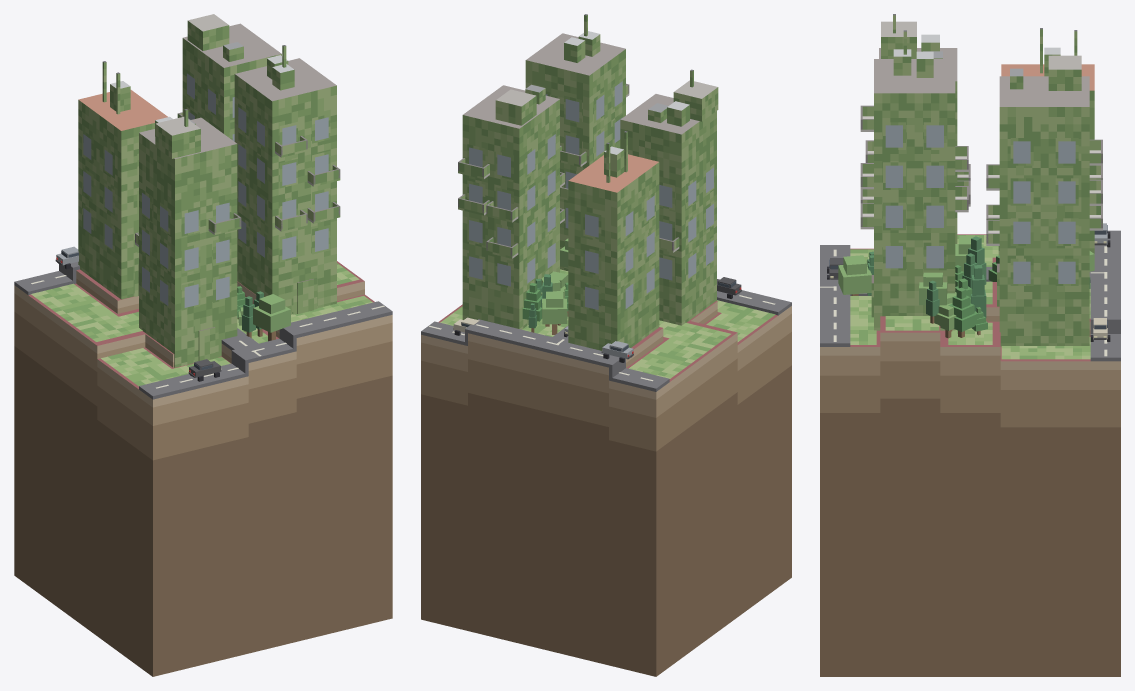
Rendered from block_24_greenfacade_50.glb.
3 views of the same model, side by side, from view 1: azimuth 30°, elevation 25°; view 2: azimuth 150°, elevation 25°; view 3: azimuth 270°, elevation 25° (orthographic). The views are drawn at different scales.
Parts seen in each view (by area): view 1: Patch_UpperRight_b24_GF, ResidBldgs_b24_GF, Green_UpperRight_b24_GF, Roads_UpperRight_b24_GF, URTree_24_17_GF; view 2: Patch_UpperRight_b24_GF, ResidBldgs_b24_GF, Roads_UpperRight_b24_GF, Green_UpperRight_b24_GF, URTree_24_0_GF; view 3: Patch_UpperRight_b24_GF, ResidBldgs_b24_GF, Roads_UpperRight_b24_GF, Green_UpperRight_b24_GF, URTree_24_17_GF, URTree_24_28_GF, URTree_24_25_GF, URTree_24_19_GF, URTree_24_20_GF.
Part boxes in pixels (box(x1,y1,x2,y2)): Patch_UpperRight_b24_GF: box(14, 261, 392, 676); ResidBldgs_b24_GF: box(78, 14, 340, 367); Green_UpperRight_b24_GF: box(31, 263, 372, 386); Roads_UpperRight_b24_GF: box(14, 262, 392, 399); URTree_24_17_GF: box(253, 294, 290, 341); Patch_UpperRight_b24_GF: box(421, 301, 791, 676); ResidBldgs_b24_GF: box(458, 14, 718, 350); Roads_UpperRight_b24_GF: box(421, 290, 791, 391); Green_UpperRight_b24_GF: box(440, 269, 775, 378); URTree_24_0_GF: box(542, 291, 567, 334); Patch_UpperRight_b24_GF: box(820, 234, 1120, 676); ResidBldgs_b24_GF: box(860, 14, 1102, 346); Roads_UpperRight_b24_GF: box(820, 230, 1120, 361); Green_UpperRight_b24_GF: box(850, 235, 1090, 359); URTree_24_17_GF: box(838, 255, 871, 295); URTree_24_28_GF: box(948, 287, 978, 337); URTree_24_25_GF: box(919, 272, 947, 305); URTree_24_19_GF: box(971, 265, 986, 317); URTree_24_20_GF: box(934, 303, 956, 338).
Size of the model in its own units: 9.5 by 21.24 by 9.5.
